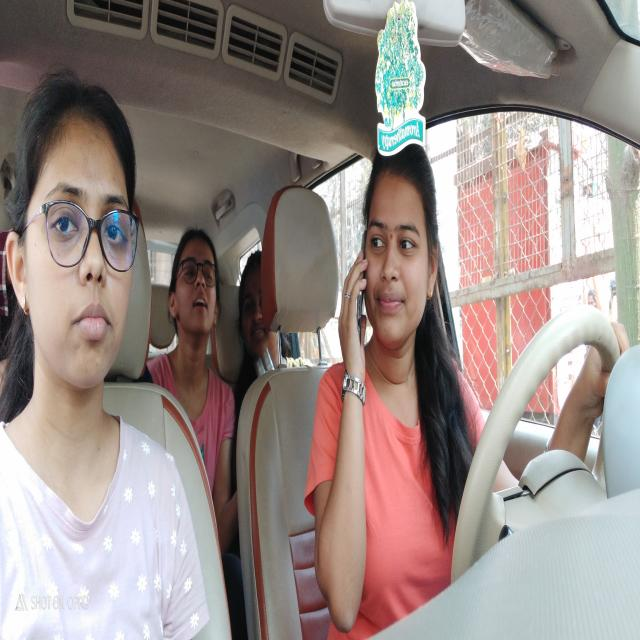mobile: (355, 237, 370, 348)
person: (5, 75, 139, 389), (364, 143, 439, 356), (168, 228, 218, 349), (239, 246, 281, 365)
